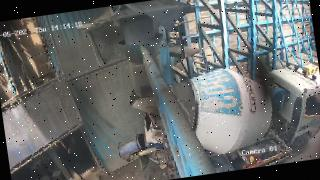cement_mixer_truck: (128, 63, 320, 180)
swing_chute: (118, 34, 168, 97)
